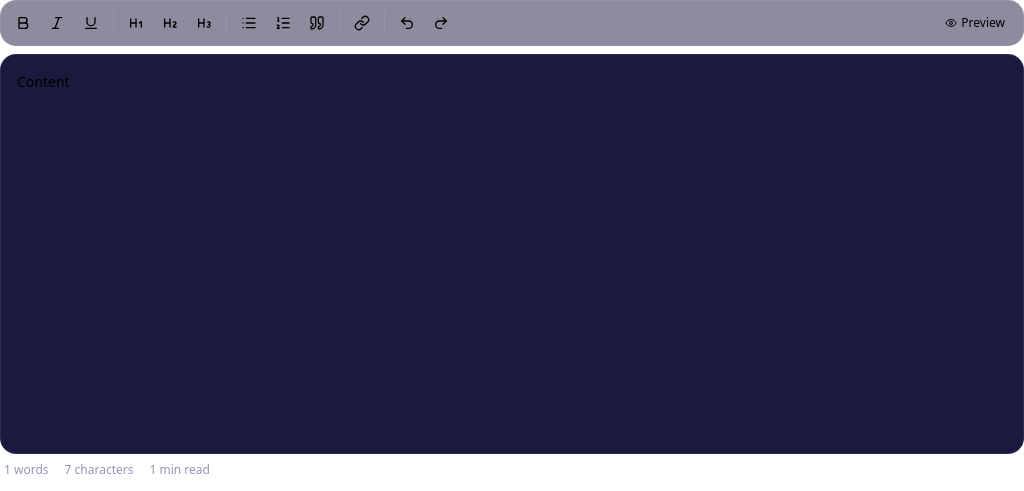
Scenario: RichTextEditor › toggles preview mode
Click the button with aria-label "Print preview": (975, 23) [933,7,1017,39]
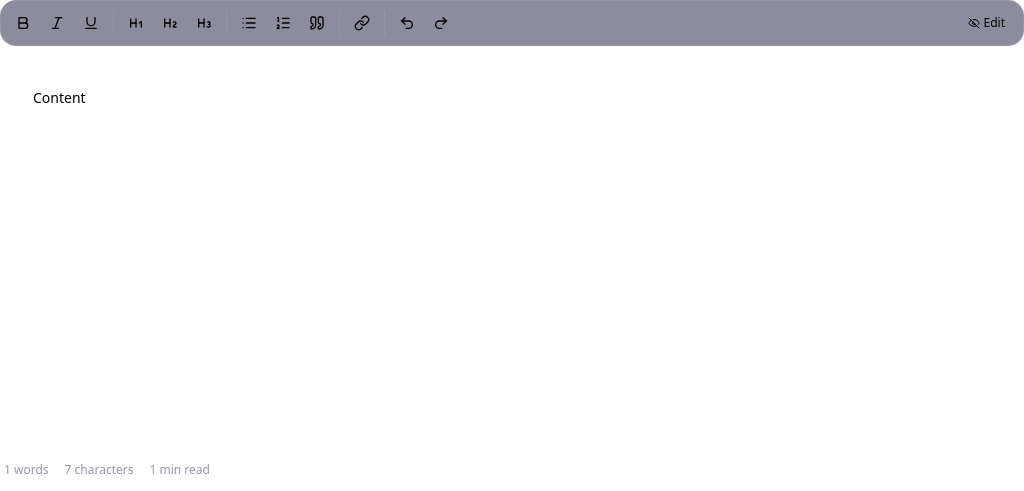
Check: the button "Edit" is shown, box [956,7,1017,39]
